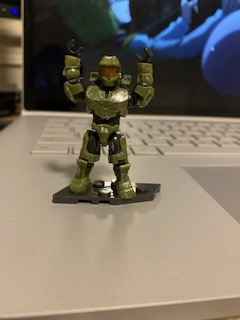chief: (61, 39, 154, 199)
spartan: (59, 37, 152, 197)
up: (61, 39, 155, 121)
